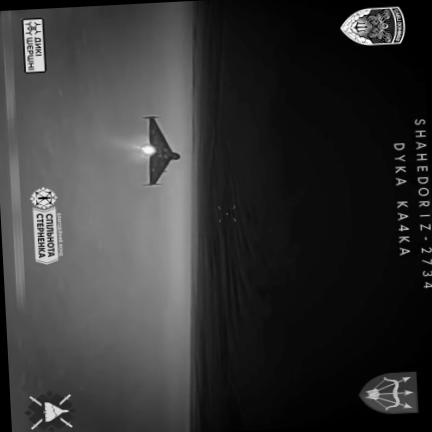Shahed: (139, 116, 179, 186)
